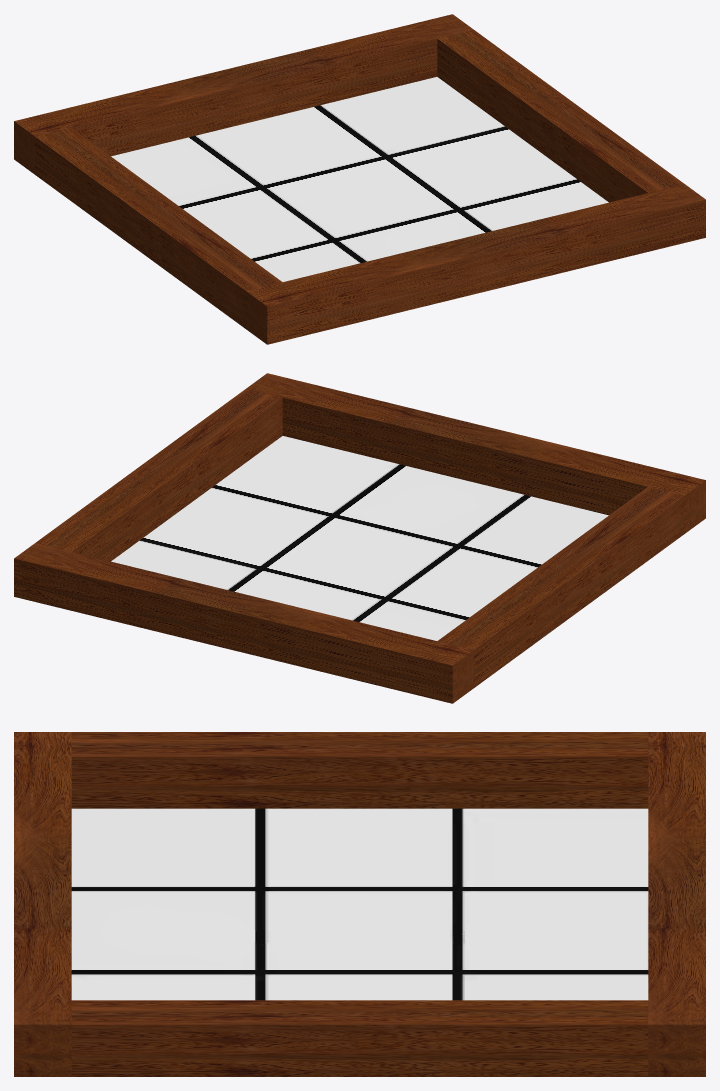
The model's file is plateau.glb.
The picture shows the model from 3 angles, top to bottom: view 1: azimuth 30°, elevation 25°; view 2: azimuth 150°, elevation 25°; view 3: azimuth 270°, elevation 25°; orthographic projection. The views are drawn at different scales.
Visible parts, largest first — view 1: Plane, Cube.003, Cube.002, Cube.001, Cube; view 2: Plane, Cube.002, Cube.003, Cube.001, Cube; view 3: Plane, Cube, Cube.001, Cube.002, Cube.003.
Boxes of the visible parts, x1,y1,x2,y2 form: Plane: [111, 77, 608, 281]; Cube.003: [246, 184, 705, 344]; Cube.002: [14, 14, 473, 174]; Cube.001: [35, 128, 282, 328]; Cube: [437, 29, 684, 202]; Plane: [111, 436, 608, 640]; Cube.002: [14, 543, 473, 703]; Cube.003: [246, 373, 705, 533]; Cube.001: [437, 487, 684, 687]; Cube: [35, 388, 282, 561]; Plane: [71, 808, 648, 1000]; Cube: [71, 1000, 648, 1076]; Cube.001: [71, 732, 648, 808]; Cube.002: [648, 732, 705, 1076]; Cube.003: [14, 732, 71, 1076].
Bounding box in the file's own units: 2.4 × 0.2 × 2.4.
Materials: 2 (2 with a texture image).
